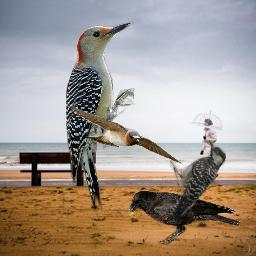Crow: (126, 190, 240, 245)
Swallow: (64, 102, 184, 164)
Woodpecker: (66, 18, 136, 217), (170, 136, 226, 226)
